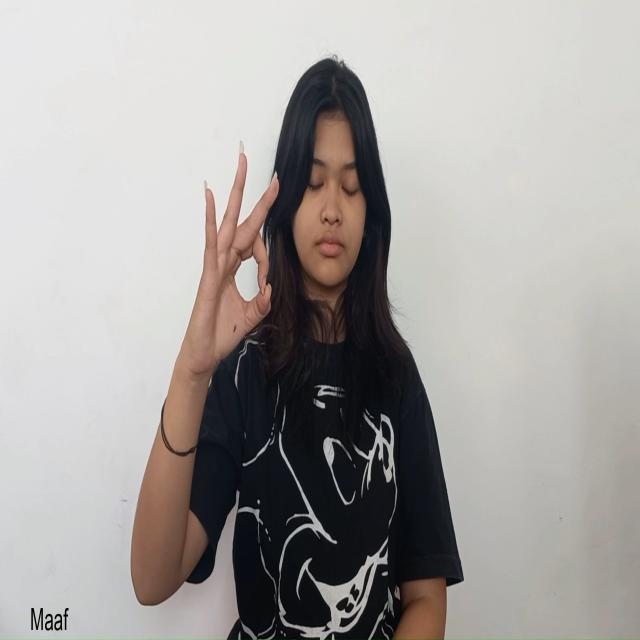Maaf -BISINDO-: (176, 138, 281, 400)
